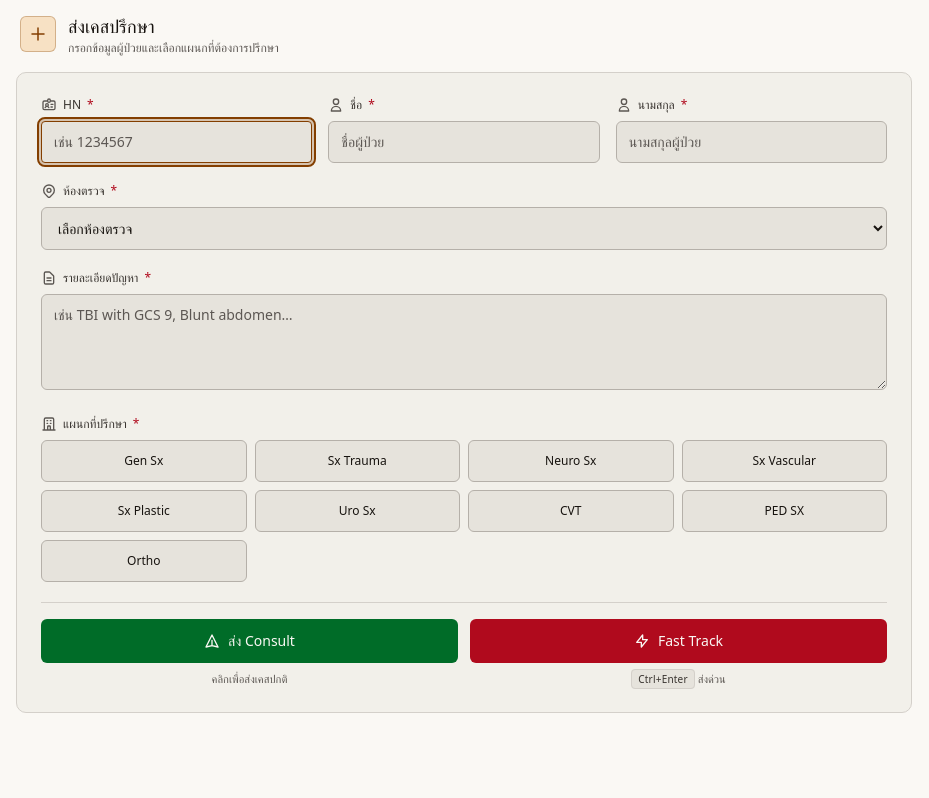
Scenario: SubmitPage mount and redirect safety › displays duplicate pending consult warning banner with department and room (zero extra reads)
In the field labelled "HN *": {"x": 177, "y": 142} [41,121,312,163], type "123456"
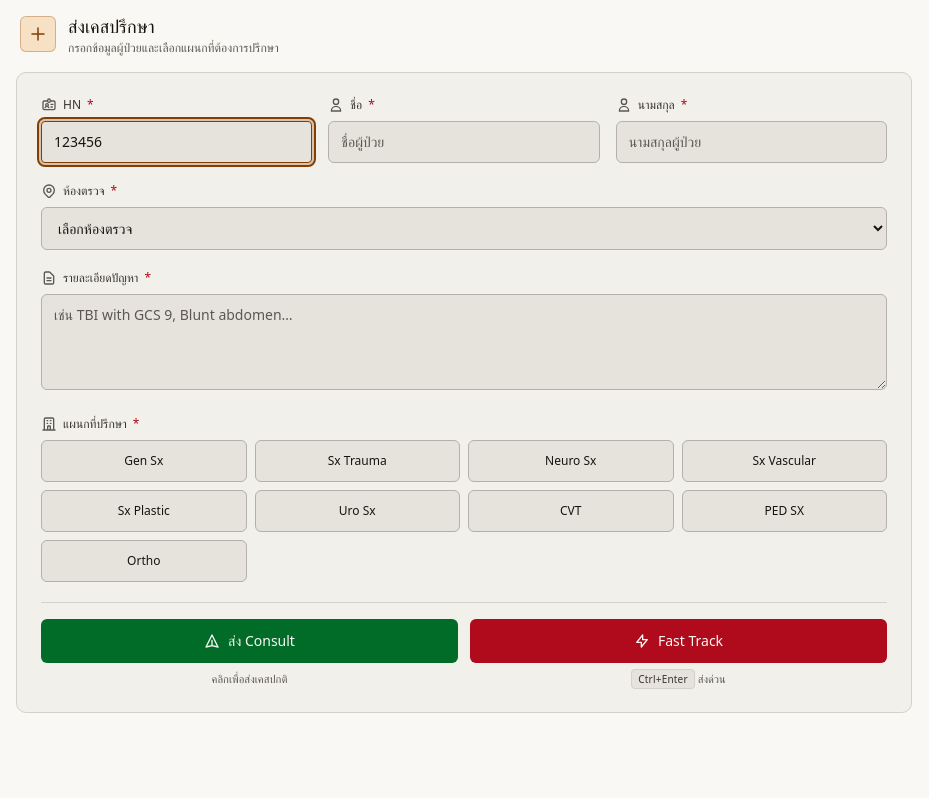
Click the checkbox labelled "Gen Sx": {"x": 144, "y": 461} [41,440,246,482]
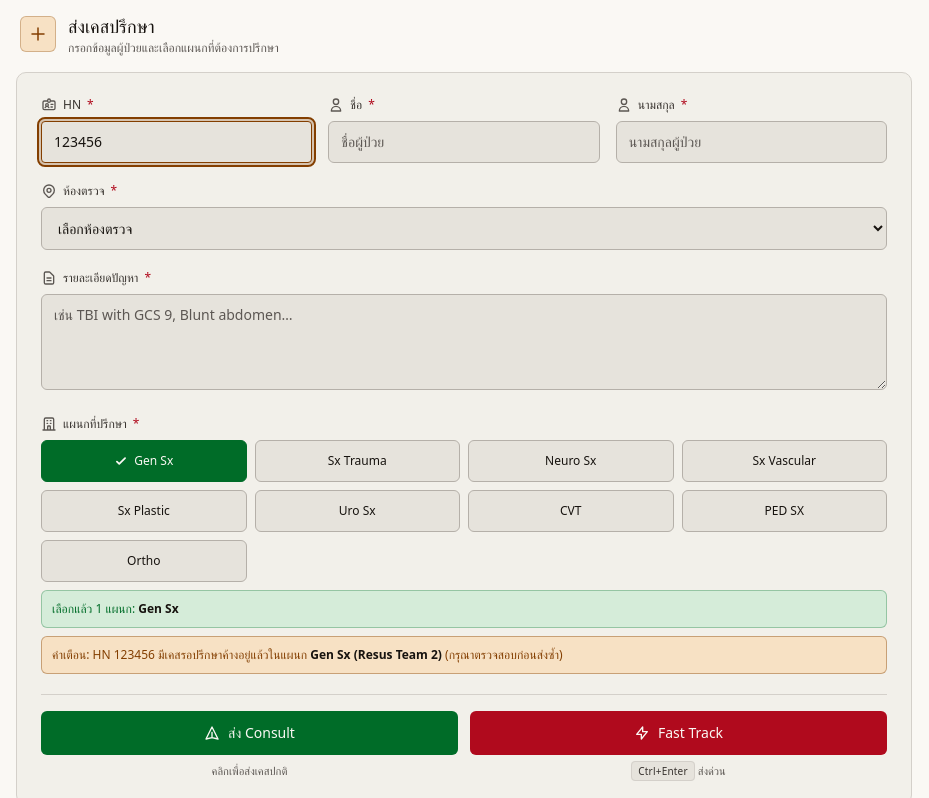
Expected: the message shows "123456", [114,646,155,663]
Expected: the message shows "Gen Sx (Resus Team 2)", [310,646,442,663]
